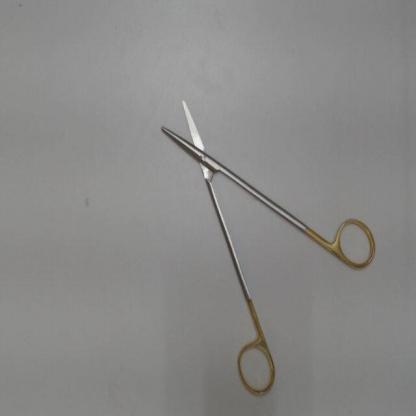7 Metzenbaum Scissors: (156, 91, 380, 401)
